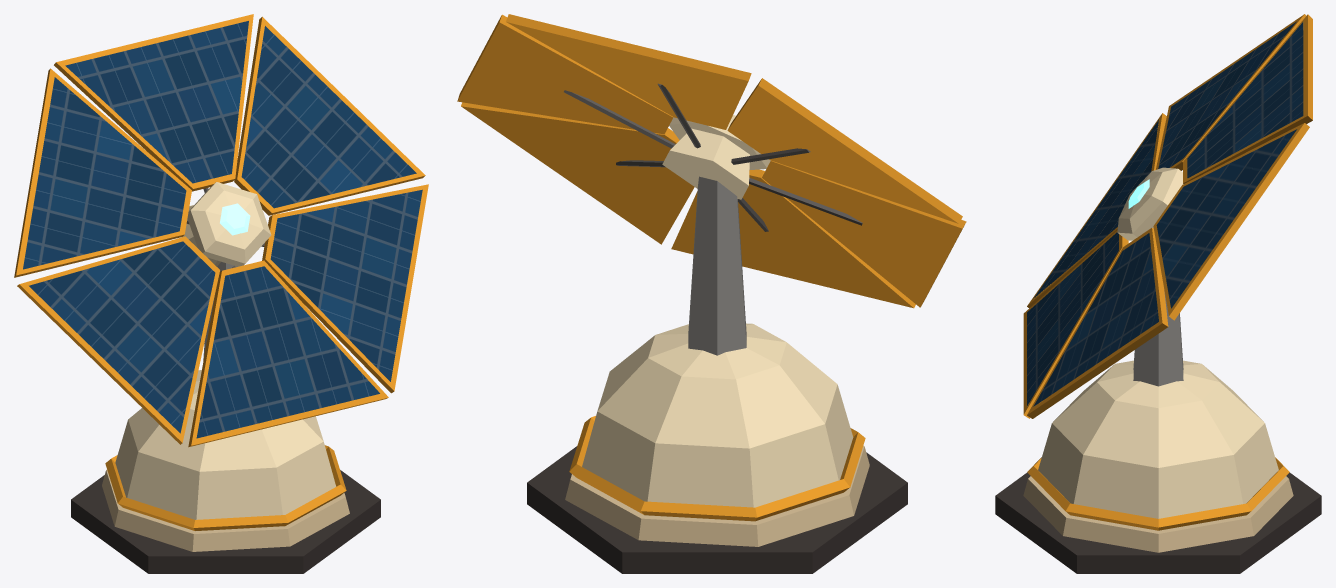
The model's file is solar-T4-slunecnice.glb.
The picture shows the model from 3 angles, left to right: view 1: azimuth 30°, elevation 25°; view 2: azimuth 150°, elevation 25°; view 3: azimuth 270°, elevation 25°; orthographic projection. The views are drawn at different scales.
Parts seen in each view (by area): view 1: solar-T4-slunecnice; view 2: solar-T4-slunecnice; view 3: solar-T4-slunecnice.
Part boxes in pixels (box(x1,y1,x2,y2)): solar-T4-slunecnice: box(14, 14, 428, 573); solar-T4-slunecnice: box(457, 14, 966, 573); solar-T4-slunecnice: box(995, 14, 1321, 573).
Bounding box in the file's own units: 5.34 × 5.32 × 3.5.
Materials: 9 (2 with a texture image).
